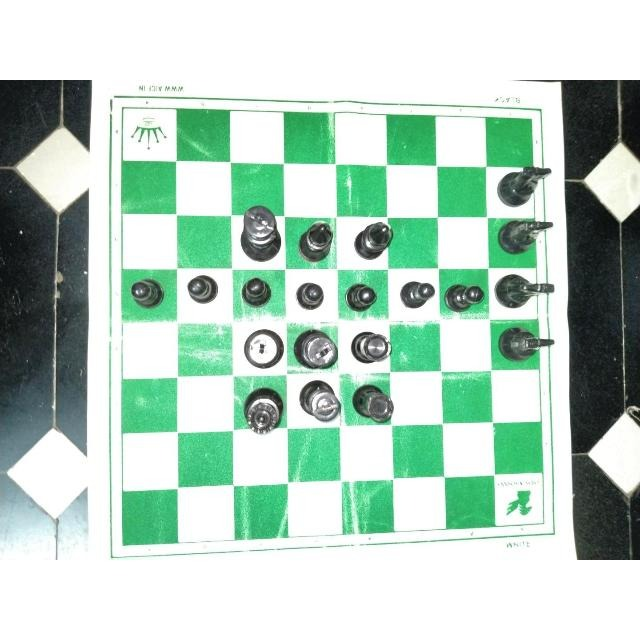black-bishop: (294, 214, 337, 267), (351, 216, 397, 264)
black-king: (237, 202, 281, 262), (235, 322, 285, 374), (293, 377, 341, 429), (294, 323, 340, 371)
black-knight: (490, 161, 556, 209), (494, 320, 556, 365), (492, 268, 557, 310), (495, 216, 557, 258)
black-pawn: (287, 275, 331, 315), (392, 275, 438, 313), (127, 274, 169, 314), (441, 277, 487, 313), (341, 276, 383, 315), (182, 271, 222, 311), (237, 273, 277, 312)
black-queen: (237, 382, 285, 437)
black-rook: (346, 322, 396, 365), (347, 380, 395, 424)
